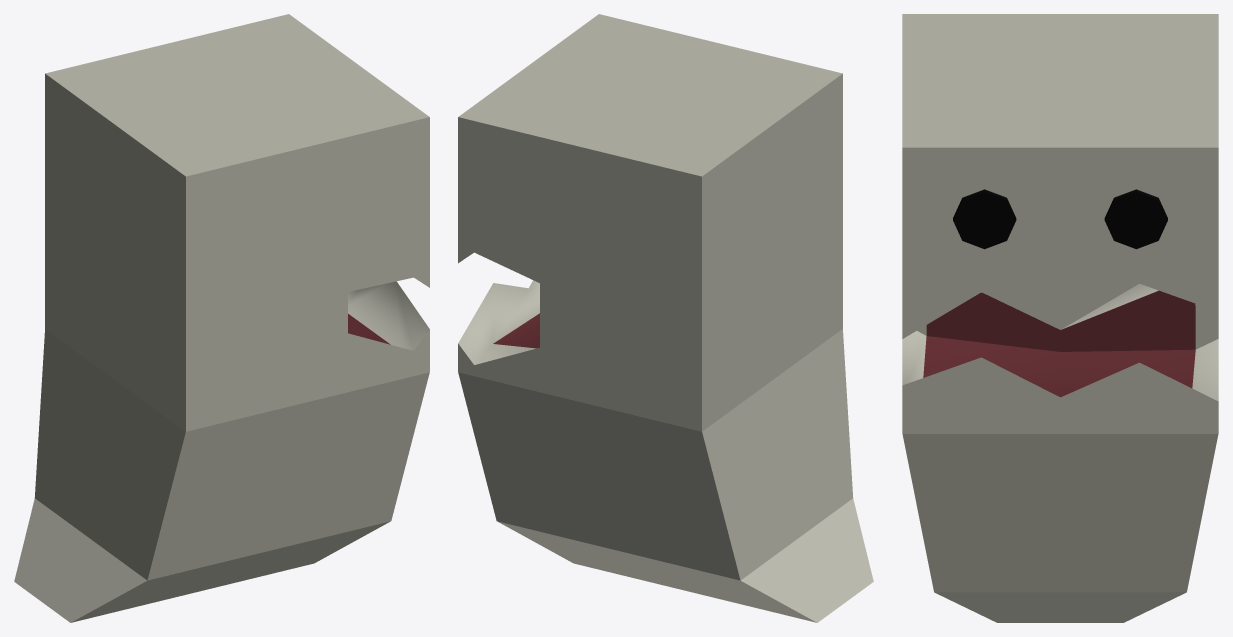
File: ghost01.fbx
3 renders of one model, left to right at view 1: azimuth 30°, elevation 25°; view 2: azimuth 150°, elevation 25°; view 3: azimuth 270°, elevation 25°, orthographic. The views are drawn at different scales.
Parts seen in each view (by area): view 1: body; view 2: body; view 3: body, eye_right, eye_left.
Part boxes in pixels (bbox=[...]): body: bbox=[14, 14, 429, 622]; body: bbox=[458, 14, 873, 622]; body: bbox=[902, 14, 1218, 622]; eye_right: bbox=[1104, 189, 1167, 249]; eye_left: bbox=[953, 189, 1016, 249].
Size of the model in its own units: 66 by 90 by 50.
